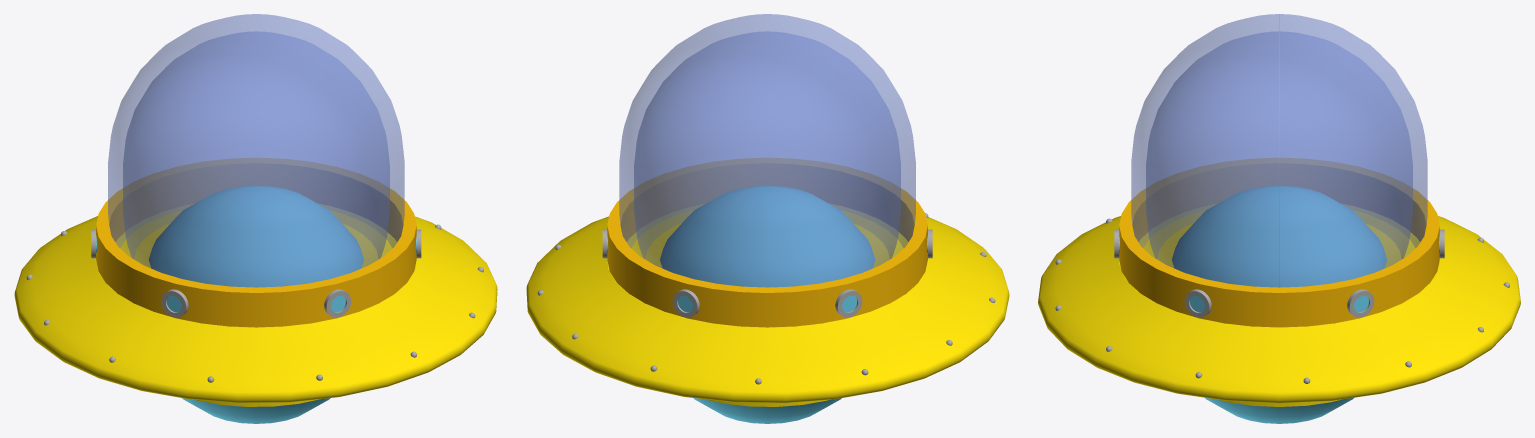
The model's file is ufo.glb.
3 renders of one model, left to right at view 1: azimuth 30°, elevation 25°; view 2: azimuth 150°, elevation 25°; view 3: azimuth 270°, elevation 25°, orthographic.
Parts seen in each view (by area): view 1: Capsule_2, Capsule, Loft, Tube, Sphere, Cap_1; view 2: Capsule_2, Capsule, Loft, Tube, Sphere, Cap_1; view 3: Capsule_2, Capsule, Loft, Tube, Sphere, Cap_1.
Boxes of the visible parts, <box> form: Capsule_2: <box>108,14,404,287</box>; Capsule: <box>123,31,389,286</box>; Loft: <box>14,216,497,406</box>; Tube: <box>96,158,416,327</box>; Sphere: <box>148,185,363,423</box>; Cap_1: <box>95,204,416,327</box>; Capsule_2: <box>619,14,915,287</box>; Capsule: <box>634,31,900,286</box>; Loft: <box>526,216,1009,406</box>; Tube: <box>607,158,927,327</box>; Sphere: <box>660,185,875,423</box>; Cap_1: <box>607,204,928,327</box>; Capsule_2: <box>1131,14,1427,287</box>; Capsule: <box>1146,31,1412,287</box>; Loft: <box>1038,216,1520,406</box>; Tube: <box>1119,158,1439,327</box>; Sphere: <box>1172,185,1386,423</box>; Cap_1: <box>1119,204,1439,327</box>.
Bounding box in the file's own units: 403 × 356 × 404.
